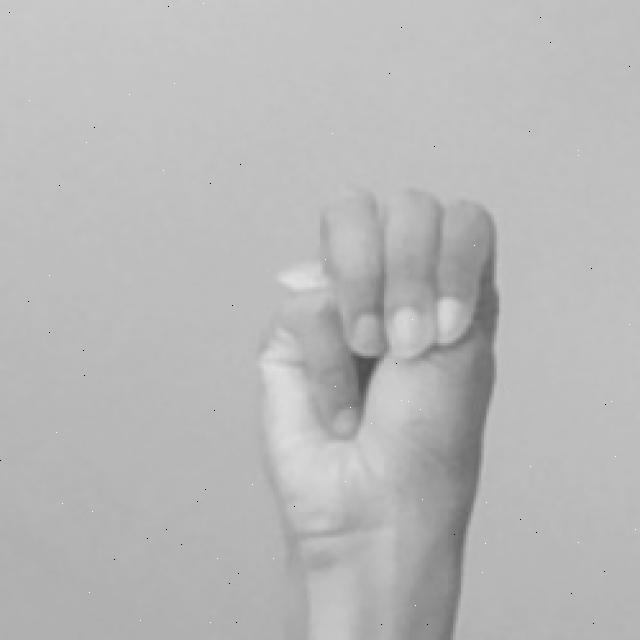M: (243, 182, 506, 640)
